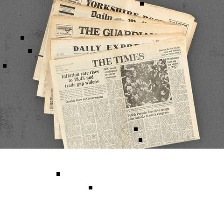news_paper: (44, 36, 203, 149), (29, 0, 208, 83), (32, 13, 189, 102)
